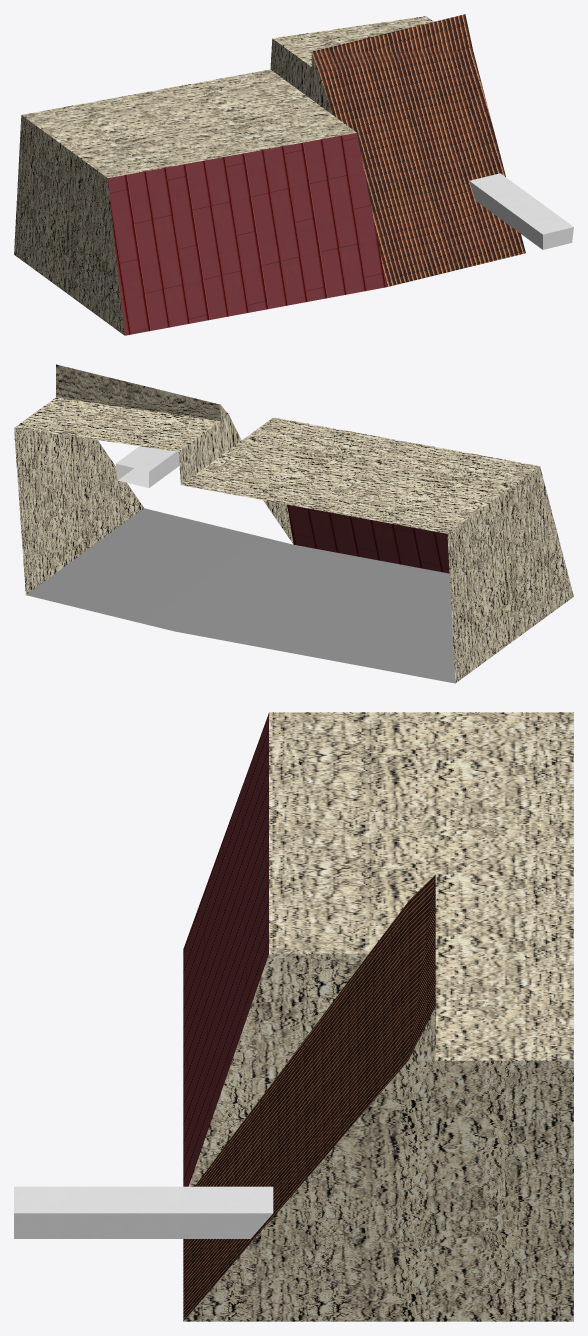
File: Vene_8_2-origo.obj
3 renders of one model, top to bottom at view 1: azimuth 30°, elevation 25°; view 2: azimuth 150°, elevation 25°; view 3: azimuth 270°, elevation 25°, orthographic. The views are drawn at different scales.
Visible parts, largest first — view 1: Vene_8_2; view 2: Vene_8_2; view 3: Vene_8_2.
Part boxes in pixels (left/top/right/bottom): Vene_8_2: left=14, top=14, right=573, bottom=335; Vene_8_2: left=14, top=364, right=573, bottom=683; Vene_8_2: left=14, top=712, right=573, bottom=1321.
Size of the model in its own units: 14.06 by 6 by 9.39.
